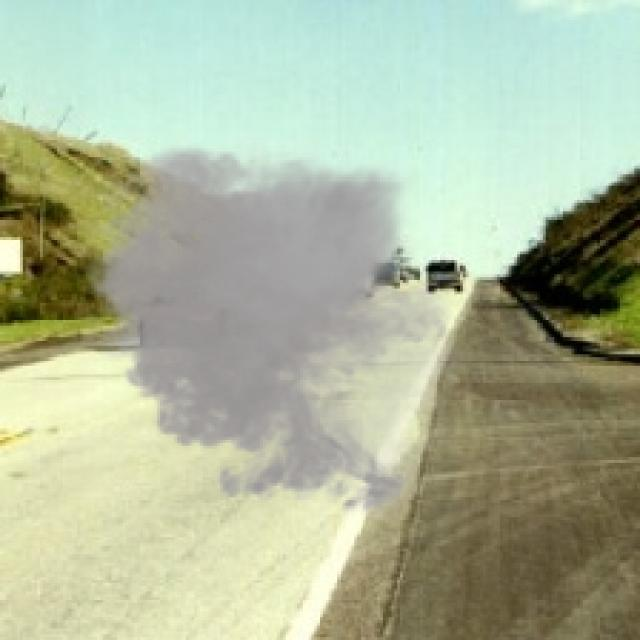smoke: (71, 131, 472, 526)
